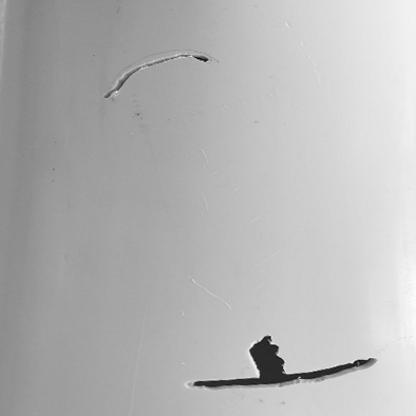fengxi: (184, 359, 382, 389), (103, 53, 210, 98)
kongdong: (246, 335, 291, 378)
